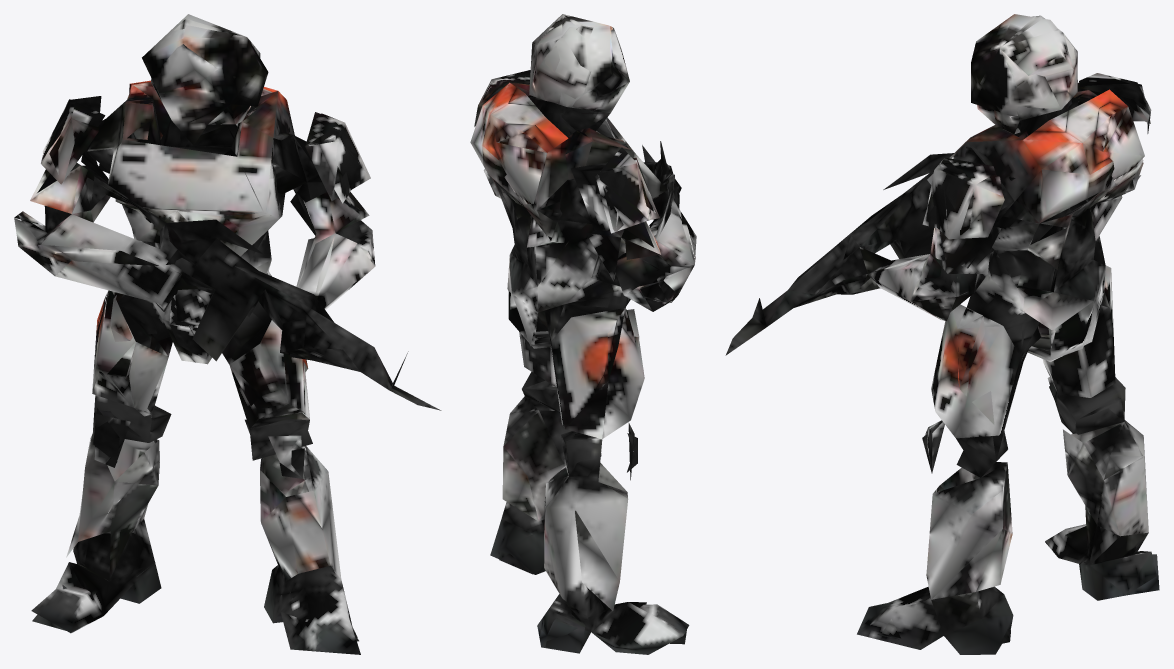
Rendered from detail_1_lo2.glb.
3 views of the same model, side by side, from view 1: azimuth 30°, elevation 25°; view 2: azimuth 150°, elevation 25°; view 3: azimuth 270°, elevation 25° (orthographic). The views are drawn at different scales.
Parts seen in each view (by area): view 1: Mesh_0.001; view 2: Mesh_0.001; view 3: Mesh_0.001.
Part boxes in pixels (x1,y1,x2,y2): Mesh_0.001: (14, 14, 441, 654); Mesh_0.001: (470, 14, 696, 654); Mesh_0.001: (725, 14, 1159, 654).
Bounding box in the file's own units: 0.486 × 0.9963 × 0.668.
Materials: 1 (1 with a texture image).
